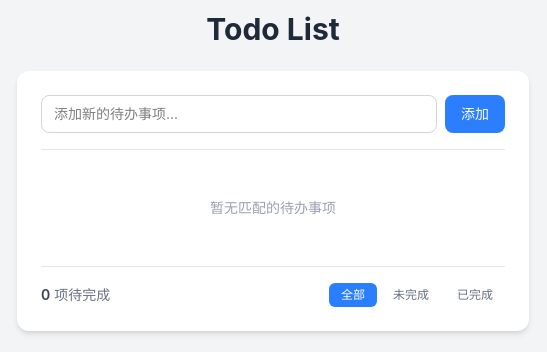
Scenario: TodoApp Integration › should add todos via both Enter and button click
The image size is (547, 352).
Type "买牛奶" into the field at (239, 114), box [41, 95, 437, 133]
Then press Enter
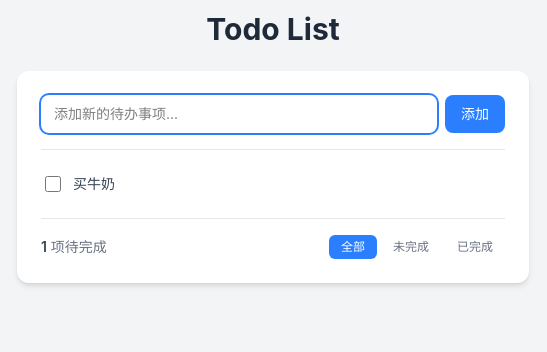
Type "写周报" into the field at (239, 114), box [41, 95, 437, 133]
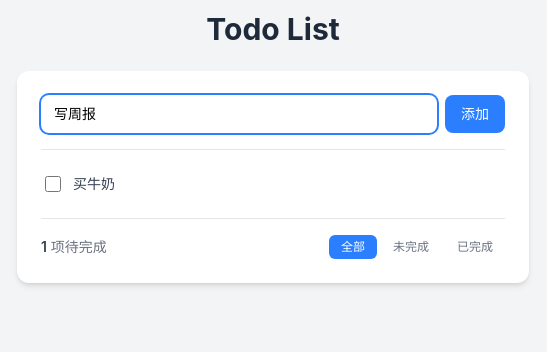
Click the button "添加" at (475, 114), box [445, 95, 505, 133]
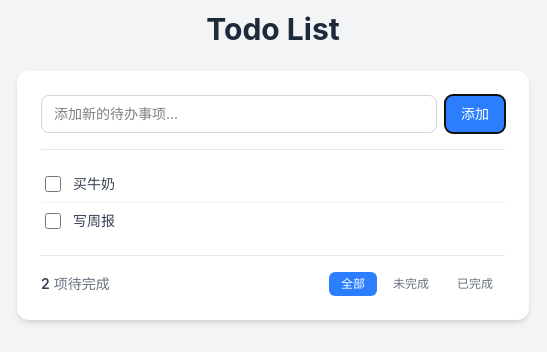
Expected: the text "买牛奶" is shown, [73, 175, 115, 192]
Expected: the text "写周报" is shown, [73, 212, 115, 229]
